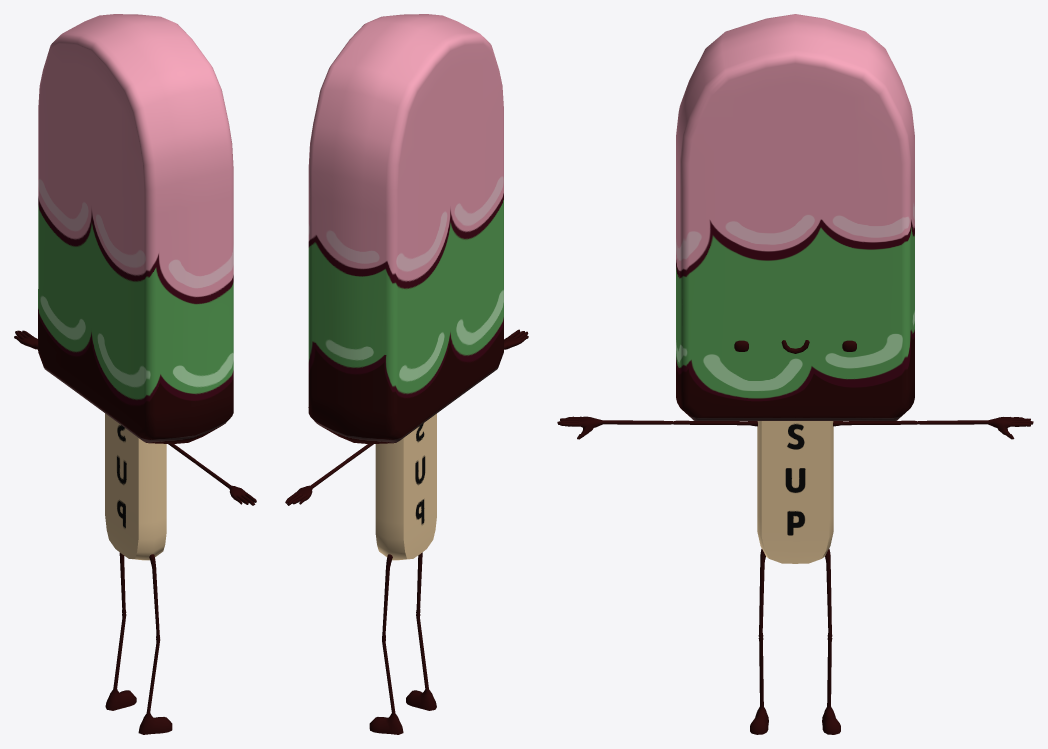
Rendered from Icecream Character.glb.
3 renders of one model, left to right at view 1: azimuth 30°, elevation 25°; view 2: azimuth 150°, elevation 25°; view 3: azimuth 270°, elevation 25°, orthographic.
Parts seen in each view (by area): view 1: _100Avatars_158_SuperICEPOP; view 2: _100Avatars_158_SuperICEPOP; view 3: _100Avatars_158_SuperICEPOP.
Part boxes in pixels (x1,y1,x2,y2): _100Avatars_158_SuperICEPOP: [14, 14, 256, 734]; _100Avatars_158_SuperICEPOP: [285, 14, 528, 734]; _100Avatars_158_SuperICEPOP: [557, 14, 1033, 734].
Bounding box in the file's own units: 0.5348 × 3.86 × 2.38.
Materials: 1 (1 with a texture image).
